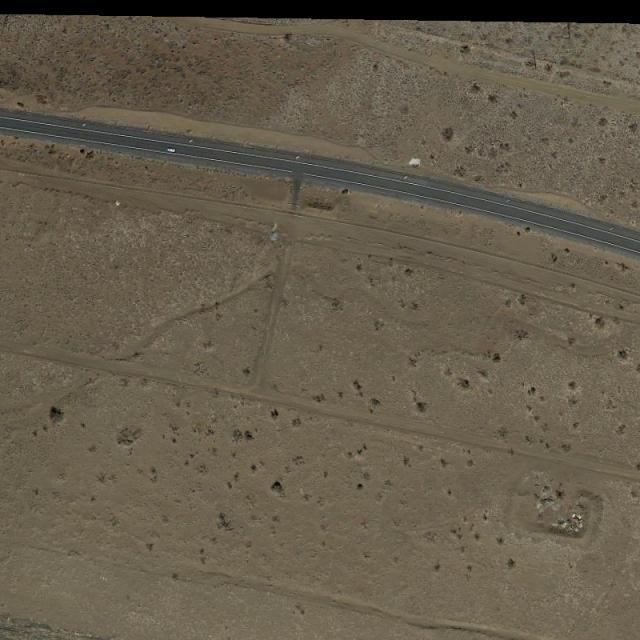vehicle: (168, 149, 176, 153)
